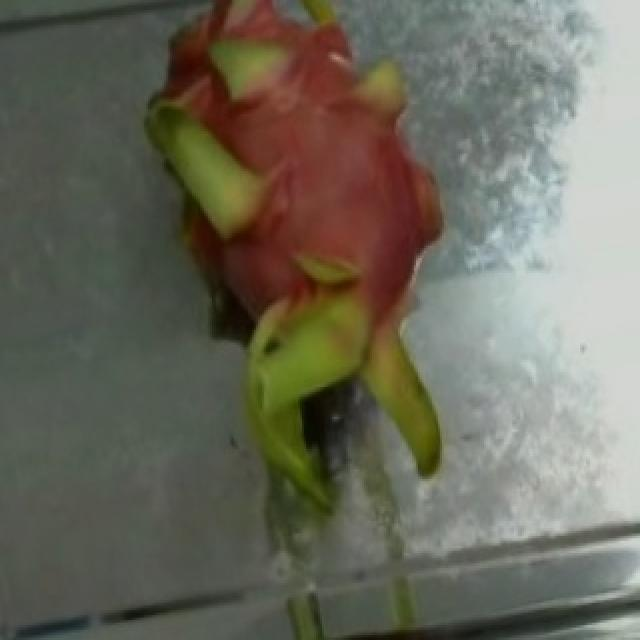fruit: (66, 0, 474, 422)
